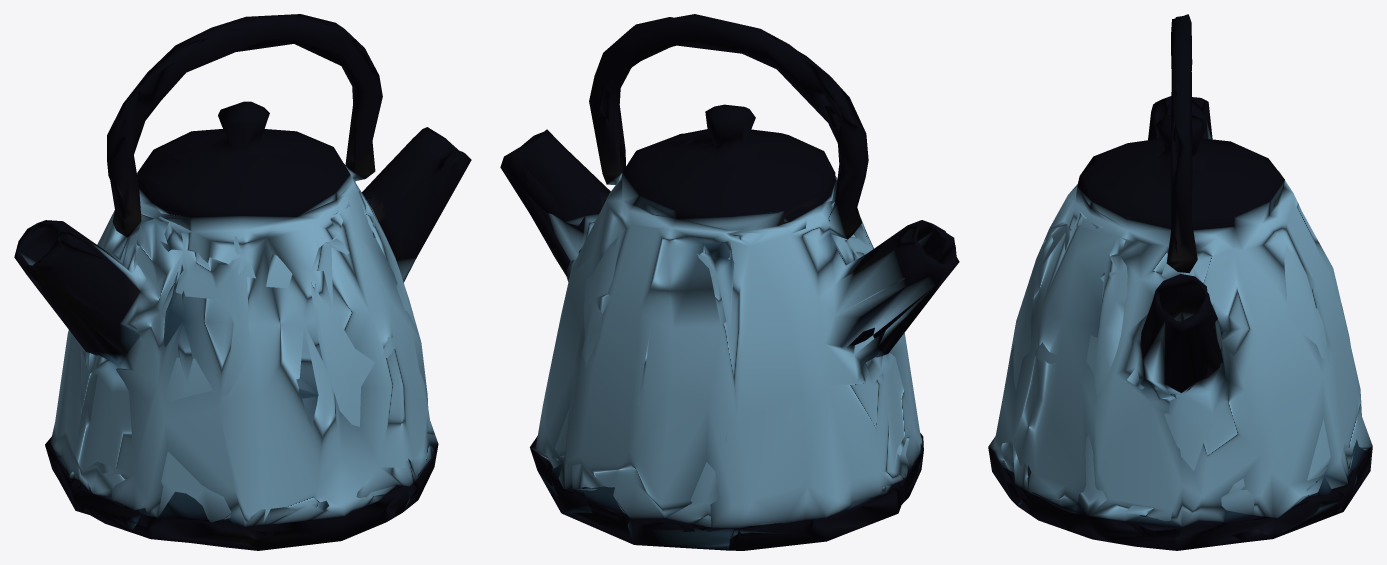
Rendered from gen3d-kettle-lod0.glb.
3 renders of one model, left to right at view 1: azimuth 30°, elevation 25°; view 2: azimuth 150°, elevation 25°; view 3: azimuth 270°, elevation 25°, orthographic. The views are drawn at different scales.
Parts seen in each view (by area): view 1: part_0; view 2: part_0; view 3: part_0.
Boxes of the visible parts, x1,y1,x2,y2 form: part_0: [14, 14, 471, 550]; part_0: [500, 14, 959, 550]; part_0: [988, 14, 1372, 550].
Bounding box in the file's own units: 1.03 × 0.9993 × 0.7929.
